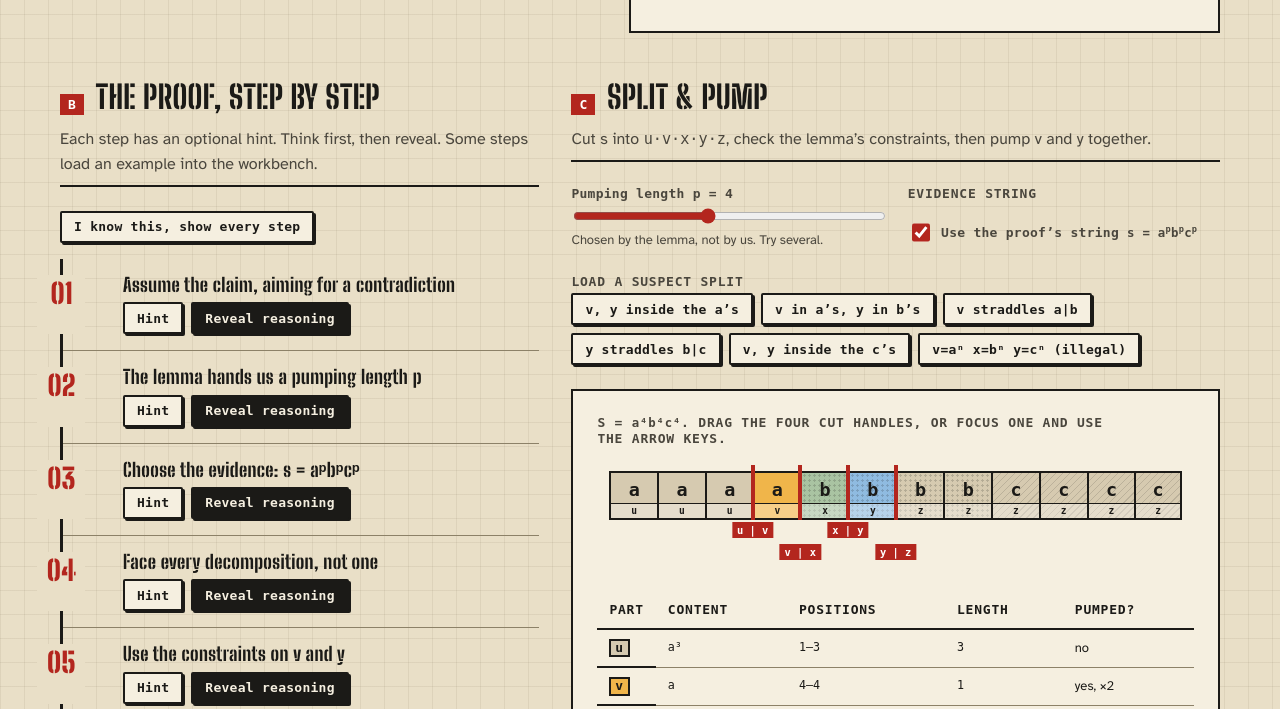
Scenario: Pumping Paradox page › illegal split is flagged rather than judged
(page scrolled)
Click the button "v=aⁿ x=bⁿ y=cⁿ (illegal)". click: (1029, 349)
box: [918,333,1140,365]
(page scrolled)
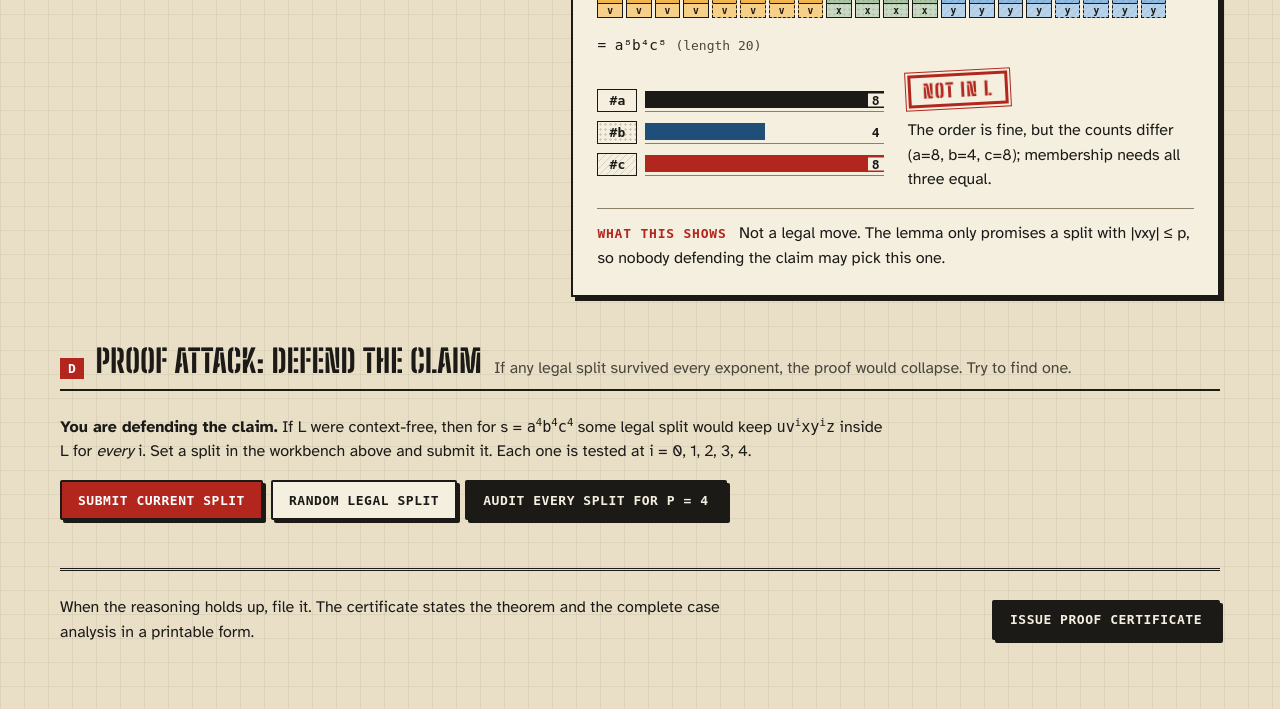
Click the button "Submit current split". click: (161, 500)
box: [60,480,263,520]
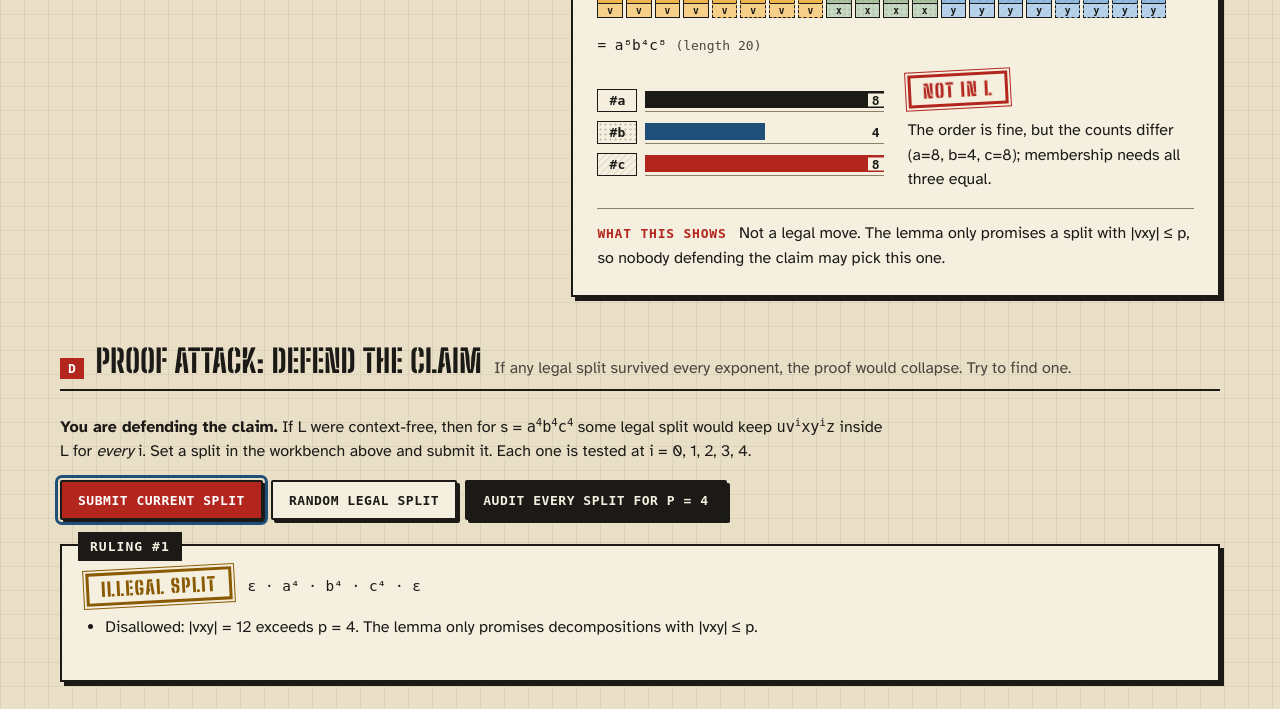
Now the text "illegal split" is shown, box [85,566,232,607]
Now the list item "exceeds p = 4" is shown, box [105,617,758,637]
